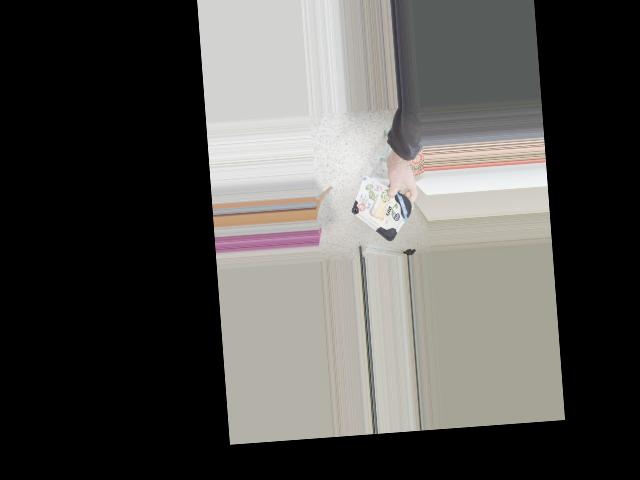cheese: (343, 177, 417, 242)
